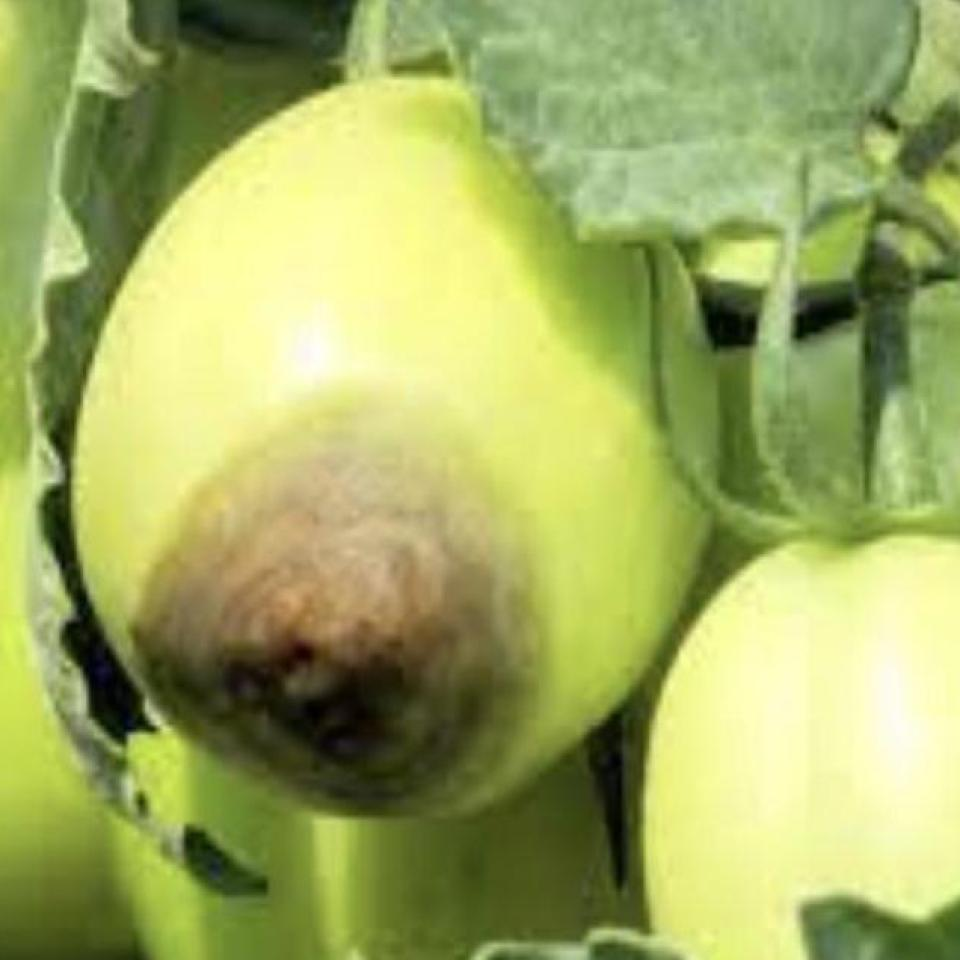Blossom_end_rot: (138, 400, 536, 814)
